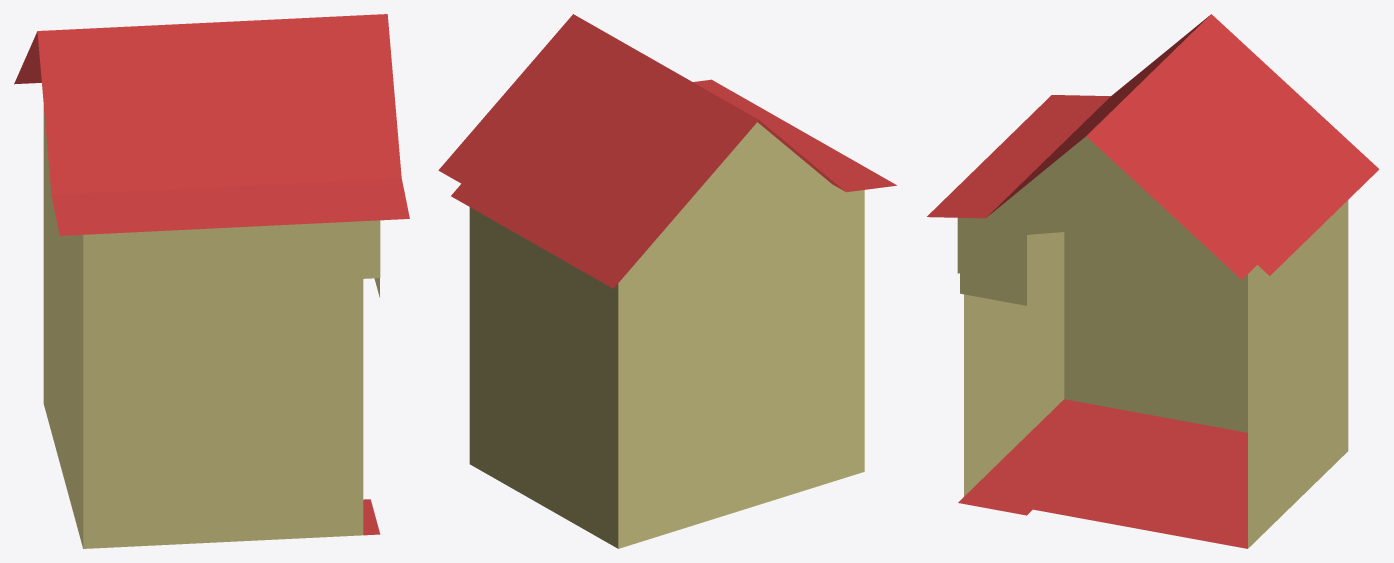
The picture shows the model from 3 angles, left to right: view 1: azimuth 30°, elevation 25°; view 2: azimuth 150°, elevation 25°; view 3: azimuth 270°, elevation 25°; orthographic projection. The views are drawn at different scales.
Size of the model in its own units: 13.38 by 14.23 by 13.9.
